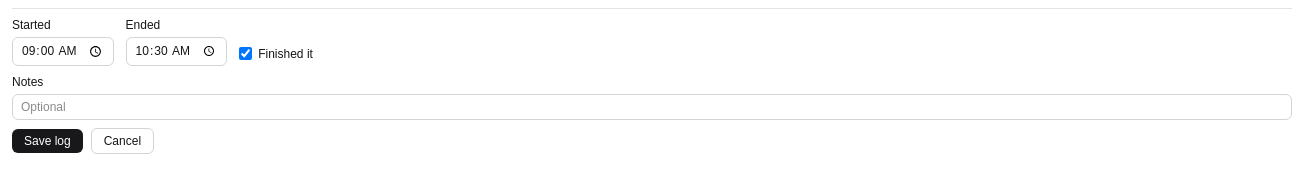
Test case: LogTimeForm › refuses to mark a log finished with no end time
Clear the time field labelled "Ended" at (176, 51), box [126, 37, 227, 66]
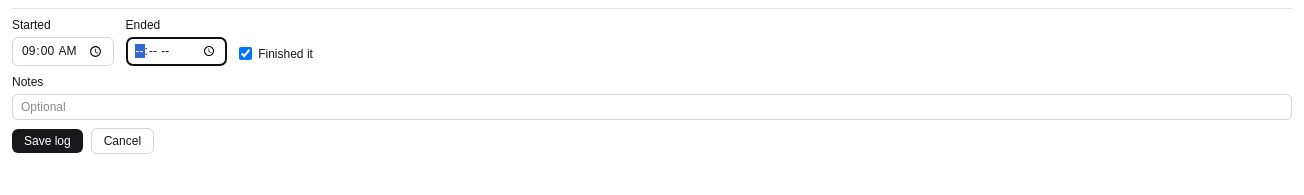
Click the button "Save log" at (47, 141), box [12, 129, 83, 153]
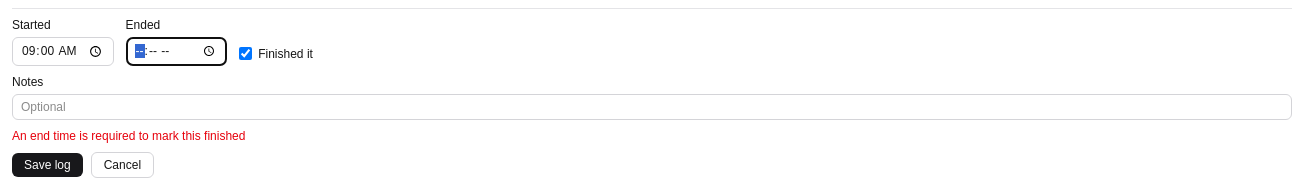
Expected: the text "An end time is required to mark this finished" is shown, [12, 129, 246, 143]
